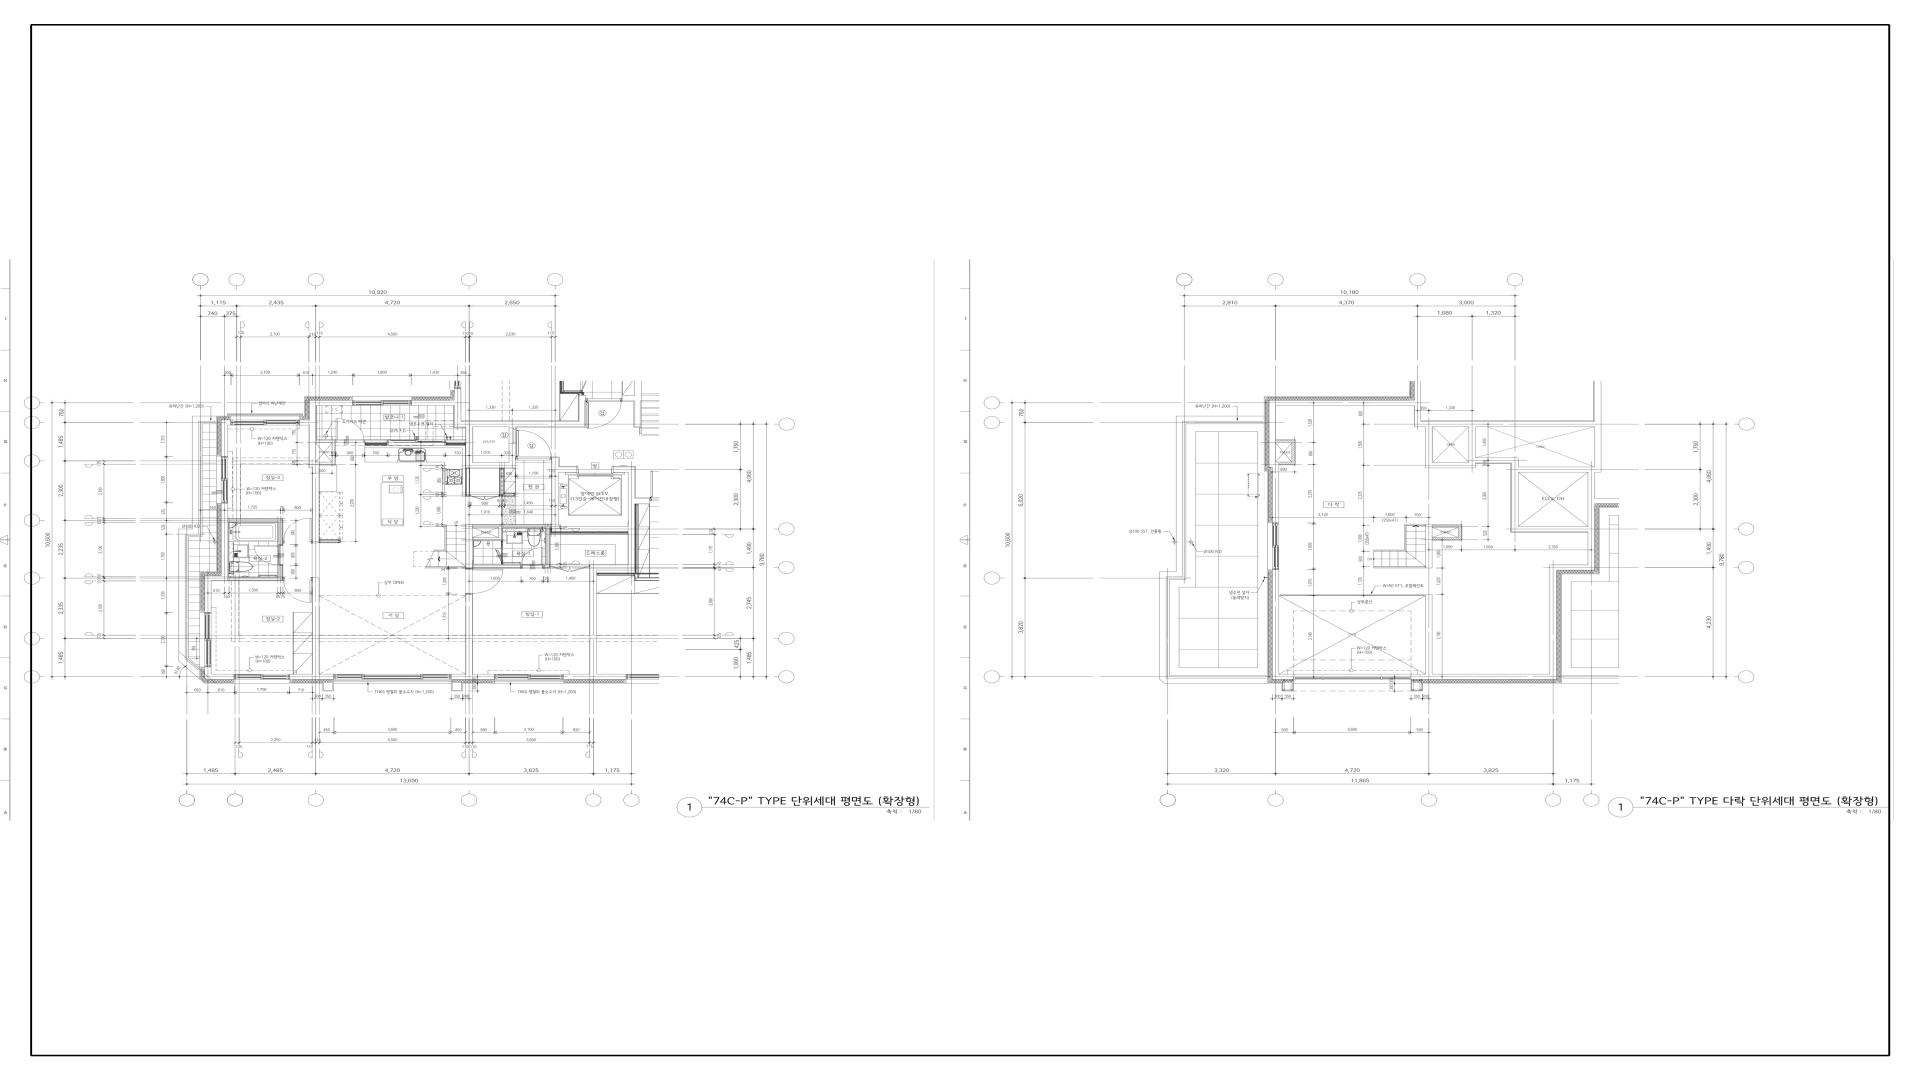door: (516, 430, 552, 460), (465, 568, 504, 594), (283, 578, 312, 603), (283, 518, 312, 543), (335, 419, 365, 443), (254, 546, 283, 565), (521, 547, 545, 568), (499, 468, 505, 525), (550, 565, 590, 572), (469, 493, 499, 501), (509, 428, 516, 444)
wall: (1176, 416, 1196, 572), (1159, 587, 1179, 683), (1179, 668, 1268, 684), (1196, 416, 1264, 432), (179, 534, 187, 657), (1414, 422, 1595, 427), (1411, 674, 1550, 680), (1276, 400, 1414, 406), (192, 416, 199, 529), (1550, 570, 1557, 680), (312, 578, 320, 674), (1272, 570, 1279, 679), (590, 565, 597, 674), (628, 472, 636, 565), (461, 421, 579, 427), (1588, 472, 1595, 565), (179, 651, 200, 679), (312, 462, 319, 543), (466, 594, 473, 674), (1159, 572, 1196, 587), (1511, 526, 1588, 533), (221, 503, 228, 575), (552, 458, 559, 527), (1426, 594, 1432, 674), (1511, 458, 1518, 526), (1269, 400, 1276, 467), (309, 405, 316, 467), (1272, 462, 1279, 523), (1518, 467, 1601, 472), (552, 527, 628, 532), (466, 524, 473, 568), (1280, 594, 1424, 596), (1469, 427, 1476, 468), (1426, 427, 1433, 468), (1595, 422, 1601, 467), (205, 575, 212, 613), (309, 400, 353, 406), (290, 674, 334, 680), (451, 674, 495, 680), (1426, 524, 1432, 568), (411, 400, 454, 406), (466, 427, 473, 463), (578, 396, 586, 427), (544, 528, 550, 568), (473, 525, 552, 528), (1550, 565, 1595, 570), (221, 425, 228, 457), (1433, 462, 1469, 468), (466, 463, 509, 468), (1476, 458, 1511, 464), (563, 674, 597, 680), (597, 565, 635, 570), (454, 400, 461, 427), (634, 402, 641, 428), (509, 443, 516, 468), (228, 519, 282, 522), (1414, 400, 1421, 422), (473, 565, 521, 568), (211, 674, 234, 680), (365, 440, 387, 446), (622, 396, 642, 402), (446, 440, 466, 446), (228, 578, 283, 580), (614, 467, 636, 472), (179, 529, 199, 534), (212, 575, 228, 581), (1432, 537, 1462, 540), (1432, 525, 1462, 528), (1279, 674, 1294, 680), (559, 467, 576, 472), (199, 416, 216, 421), (466, 468, 469, 496), (473, 537, 499, 540), (205, 667, 211, 680), (279, 522, 282, 545), (1292, 443, 1295, 462), (1276, 440, 1295, 443), (316, 440, 335, 443), (332, 443, 335, 462), (1404, 525, 1406, 551), (1374, 567, 1426, 568), (299, 420, 309, 425), (221, 420, 231, 425), (1279, 462, 1295, 465), (319, 462, 335, 465), (426, 567, 466, 568), (1458, 528, 1462, 538), (499, 528, 502, 540), (279, 566, 282, 578), (1374, 550, 1405, 551), (505, 493, 515, 496), (445, 525, 446, 551), (1404, 524, 1426, 525), (319, 542, 339, 543), (501, 541, 503, 548), (434, 550, 445, 551), (509, 427, 516, 428), (278, 545, 283, 546), (278, 565, 282, 566)
window: (334, 674, 451, 680), (495, 674, 563, 680), (387, 440, 446, 446), (1294, 677, 1411, 680), (353, 400, 411, 406), (231, 420, 299, 425), (234, 674, 290, 680), (205, 612, 211, 667), (1272, 523, 1279, 570), (221, 456, 228, 503)
